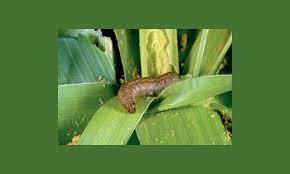fallarmy_worm: (114, 72, 187, 112)
